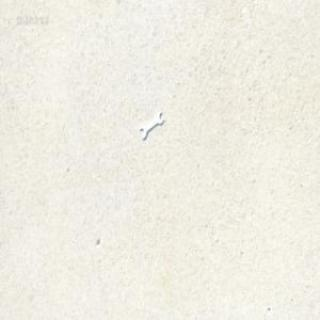Wrenchtrack_idkeyframe: (138, 110, 162, 139)
